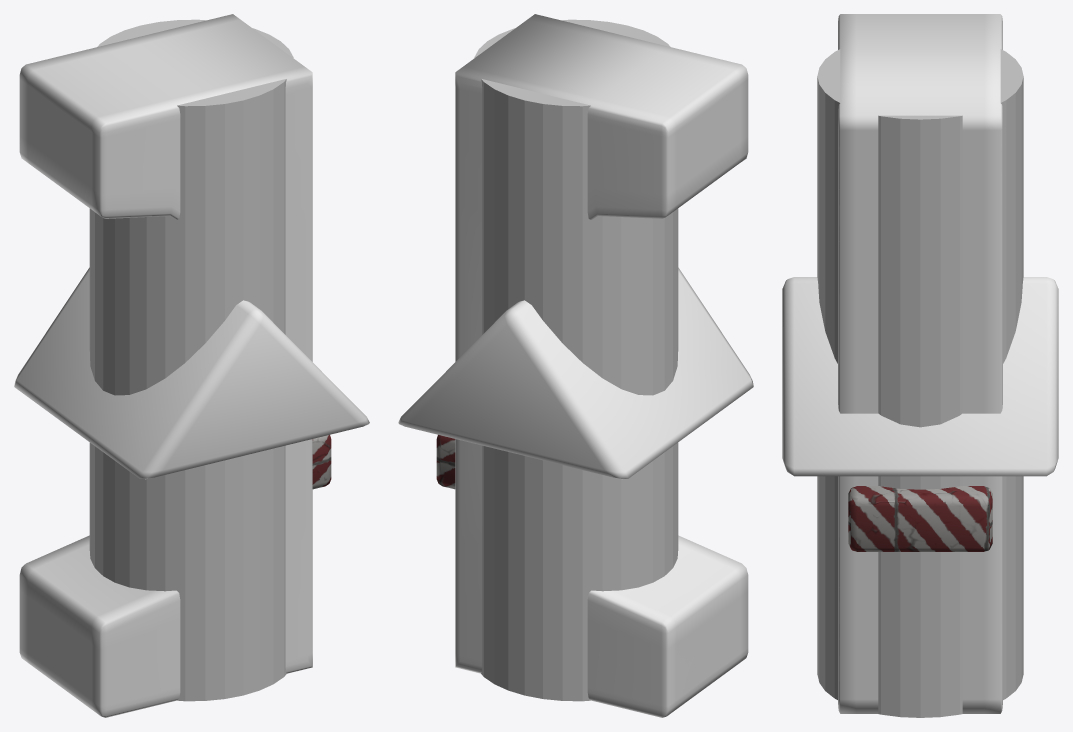
The model's file is blocks_collection.fbx.
3 renders of one model, left to right at view 1: azimuth 30°, elevation 25°; view 2: azimuth 150°, elevation 25°; view 3: azimuth 270°, elevation 25°, orthographic.
Parts seen in each view (by area): view 1: cylinder_dynamic, column_dynamic, triangle_dynamic, Lshape_dynamic; view 2: cylinder_dynamic, column_dynamic, triangle_dynamic, Lshape_dynamic; view 3: cylinder_dynamic, column_dynamic, triangle_dynamic, Lshape_dynamic.
Part boxes in pixels (bbox=[...]): cylinder_dynamic: bbox=[89, 19, 293, 701]; column_dynamic: bbox=[19, 14, 312, 717]; triangle_dynamic: bbox=[14, 267, 369, 479]; Lshape_dynamic: bbox=[312, 435, 331, 489]; cylinder_dynamic: bbox=[474, 19, 678, 701]; column_dynamic: bbox=[455, 14, 748, 717]; triangle_dynamic: bbox=[398, 267, 753, 479]; Lshape_dynamic: bbox=[436, 435, 455, 489]; cylinder_dynamic: bbox=[817, 49, 1023, 717]; column_dynamic: bbox=[838, 14, 1002, 713]; triangle_dynamic: bbox=[782, 277, 1058, 476]; Lshape_dynamic: bbox=[848, 486, 992, 551].
Size of the model in its own units: 0.0522 by 0.12 by 0.0502.
